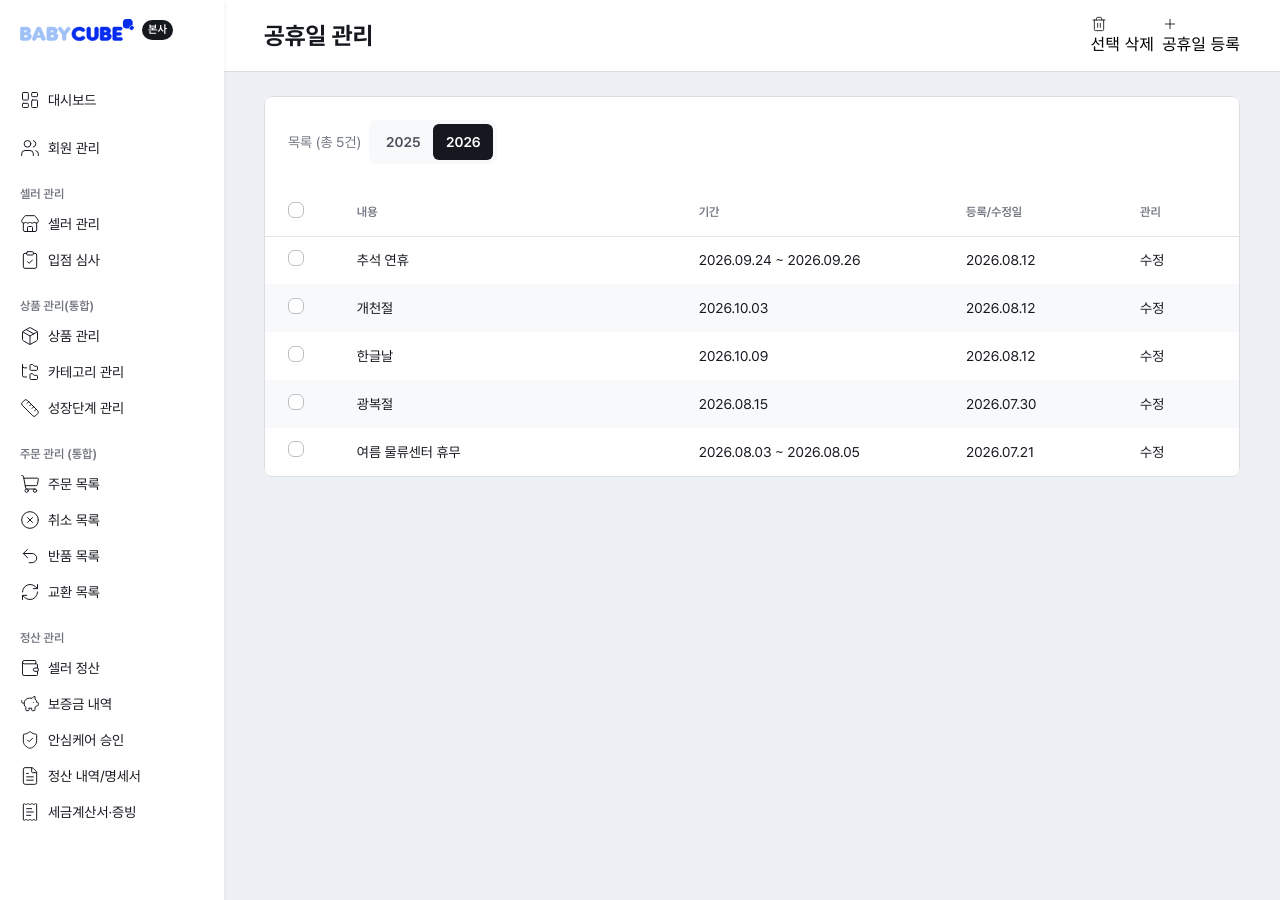
Test: HolidayListPage › 목록·연도 칩 › 2025 칩을 고르면 그 해 공휴일만 남는다
The image size is (1280, 900).
Click the radio button labelled "2025" at [403, 142], box [373,124,433,160]
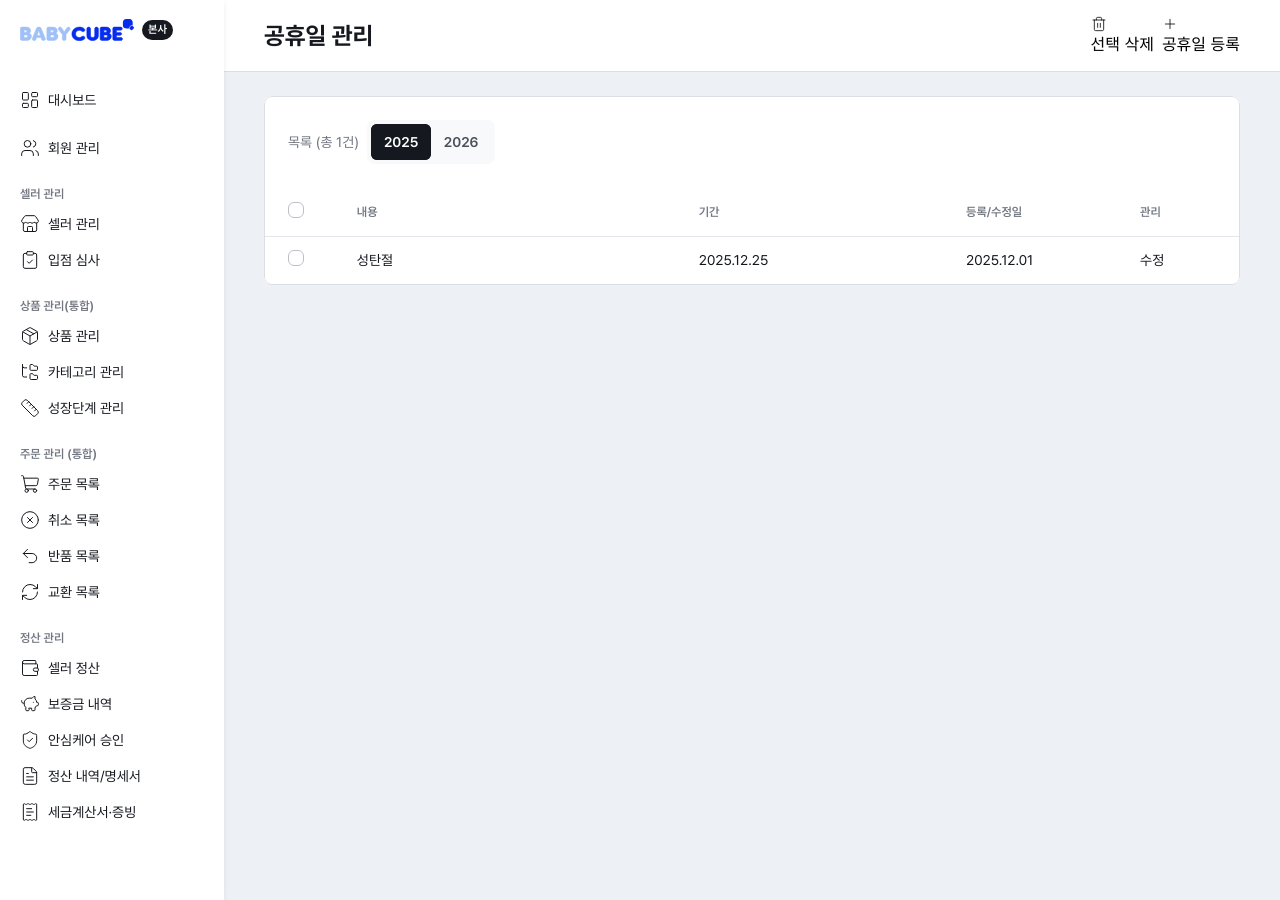
Check: the text "목록 (총 1건)" is shown, box [288,132,359,152]
